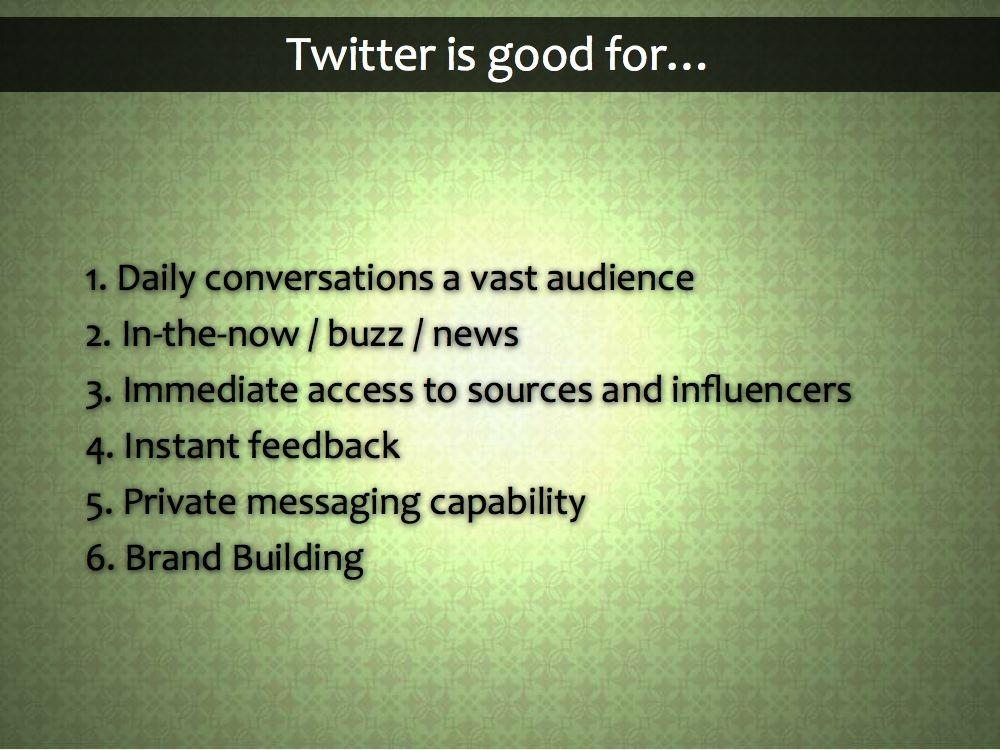paragraph: (74, 246, 903, 598)
title: (278, 22, 725, 102)
